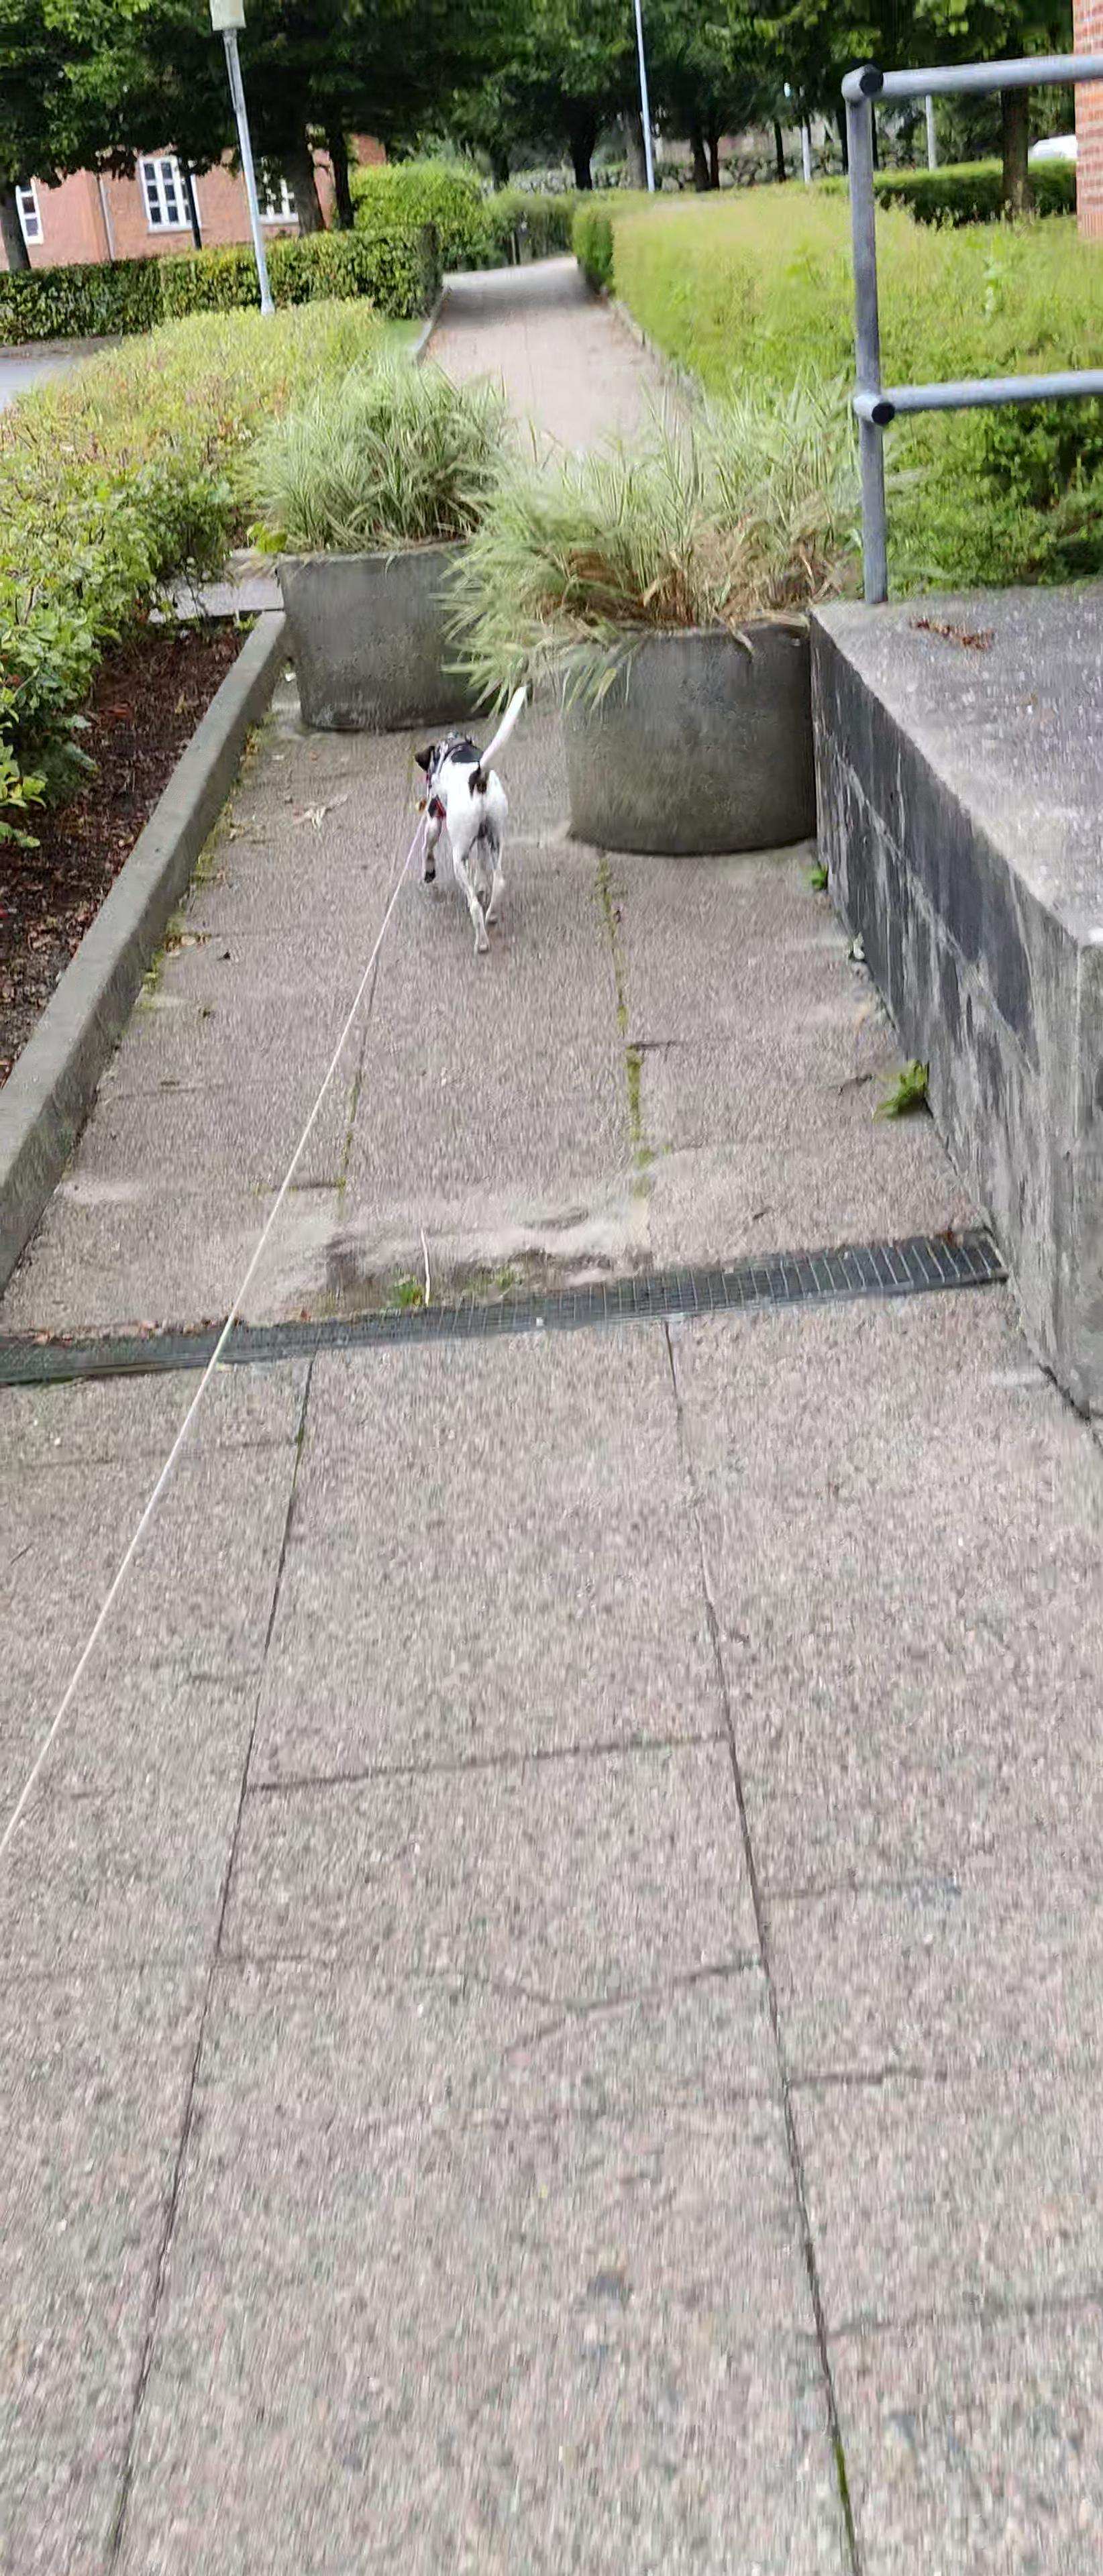Dog: (413, 677, 531, 961)
